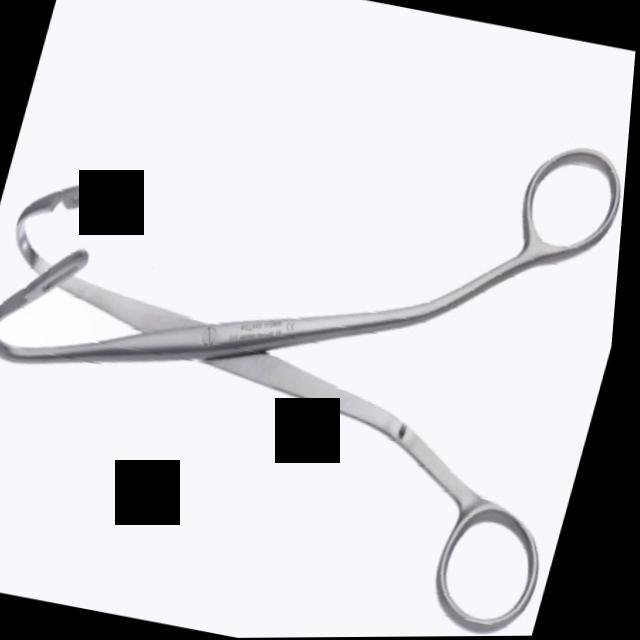Randall: (0, 23, 638, 640)
